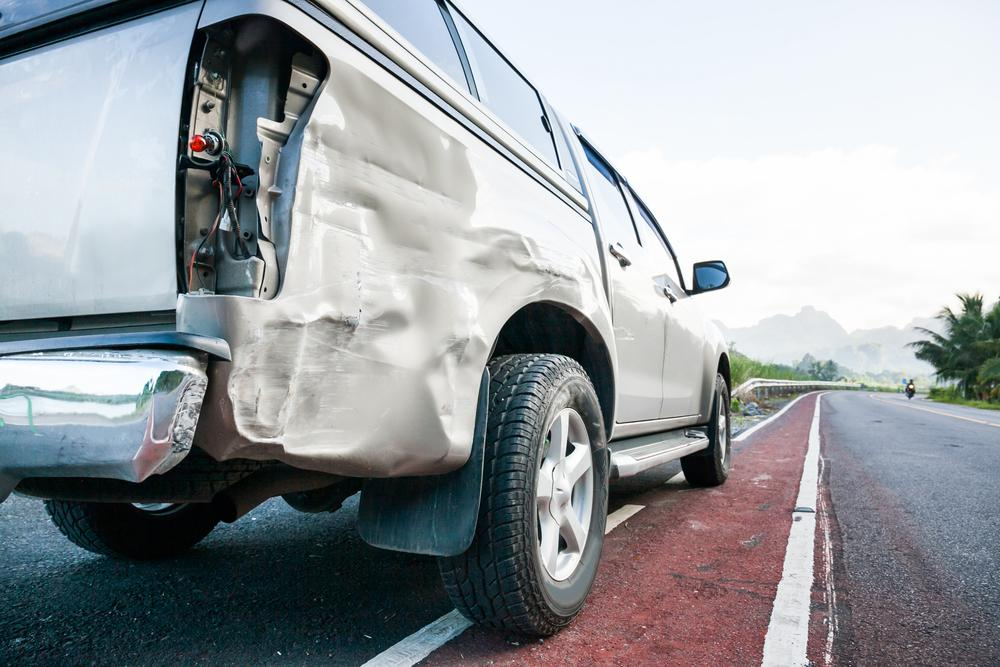dent: (222, 64, 603, 466)
